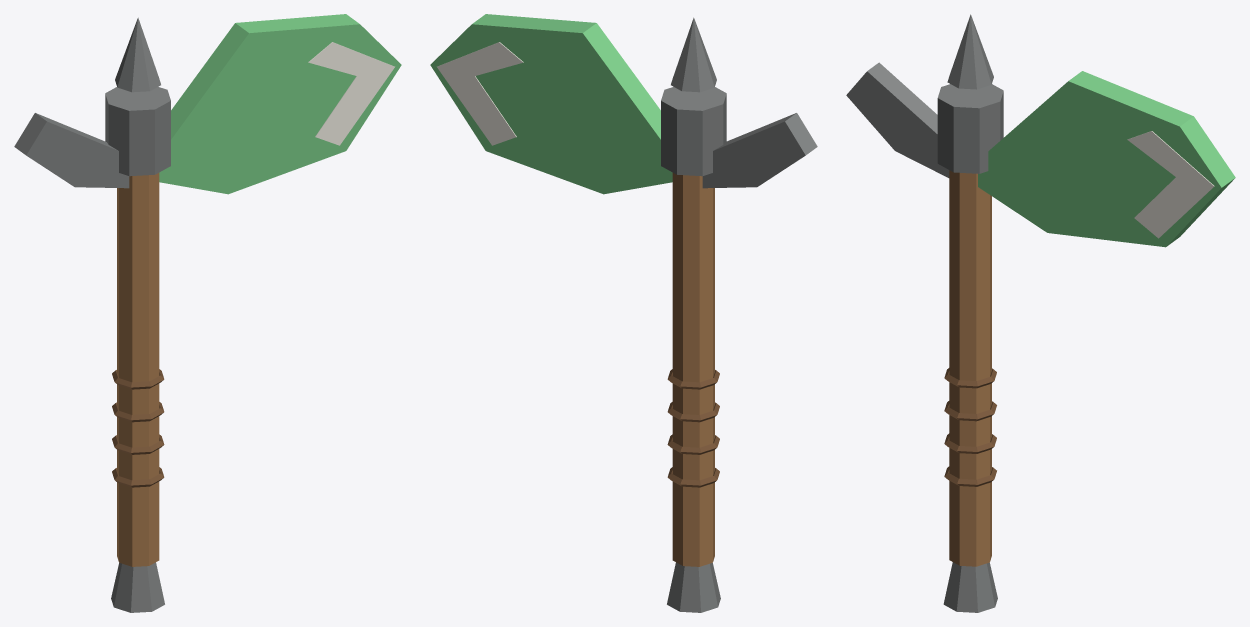
Rendered from t3_axe.glb.
The picture shows the model from 3 angles, left to right: view 1: azimuth 30°, elevation 25°; view 2: azimuth 150°, elevation 25°; view 3: azimuth 330°, elevation 25°; orthographic projection.
Visible parts, largest first — view 1: RightBlade, WoodHandle, TopSocket, BackSpike, RightBladeEdge, BottomPommel, TopSpike; view 2: RightBlade, WoodHandle, TopSocket, BackSpike, RightBladeEdge, BottomPommel, TopSpike; view 3: RightBlade, WoodHandle, BackSpike, TopSocket, RightBladeEdge, BottomPommel, TopSpike.
Part boxes in pixels (<box>): RightBlade: <box>159,14,401,194</box>; WoodHandle: <box>117,173,159,566</box>; TopSocket: <box>105,87,170,176</box>; BackSpike: <box>14,113,129,188</box>; RightBladeEdge: <box>308,42,394,145</box>; BottomPommel: <box>111,562,164,612</box>; TopSpike: <box>115,17,160,92</box>; RightBlade: <box>430,14,672,194</box>; WoodHandle: <box>672,173,714,566</box>; TopSocket: <box>661,87,726,176</box>; BackSpike: <box>702,113,817,188</box>; RightBladeEdge: <box>437,42,523,145</box>; BottomPommel: <box>667,562,720,612</box>; TopSpike: <box>671,17,716,92</box>; RightBlade: <box>978,71,1235,247</box>; WoodHandle: <box>949,170,991,566</box>; BackSpike: <box>846,62,949,177</box>; TopSocket: <box>937,84,1003,173</box>; RightBladeEdge: <box>1127,131,1214,238</box>; BottomPommel: <box>943,562,997,612</box>; TopSpike: <box>947,14,993,89</box>.
Bounding box in the file's own units: 1.08 × 1.61 × 0.17.
